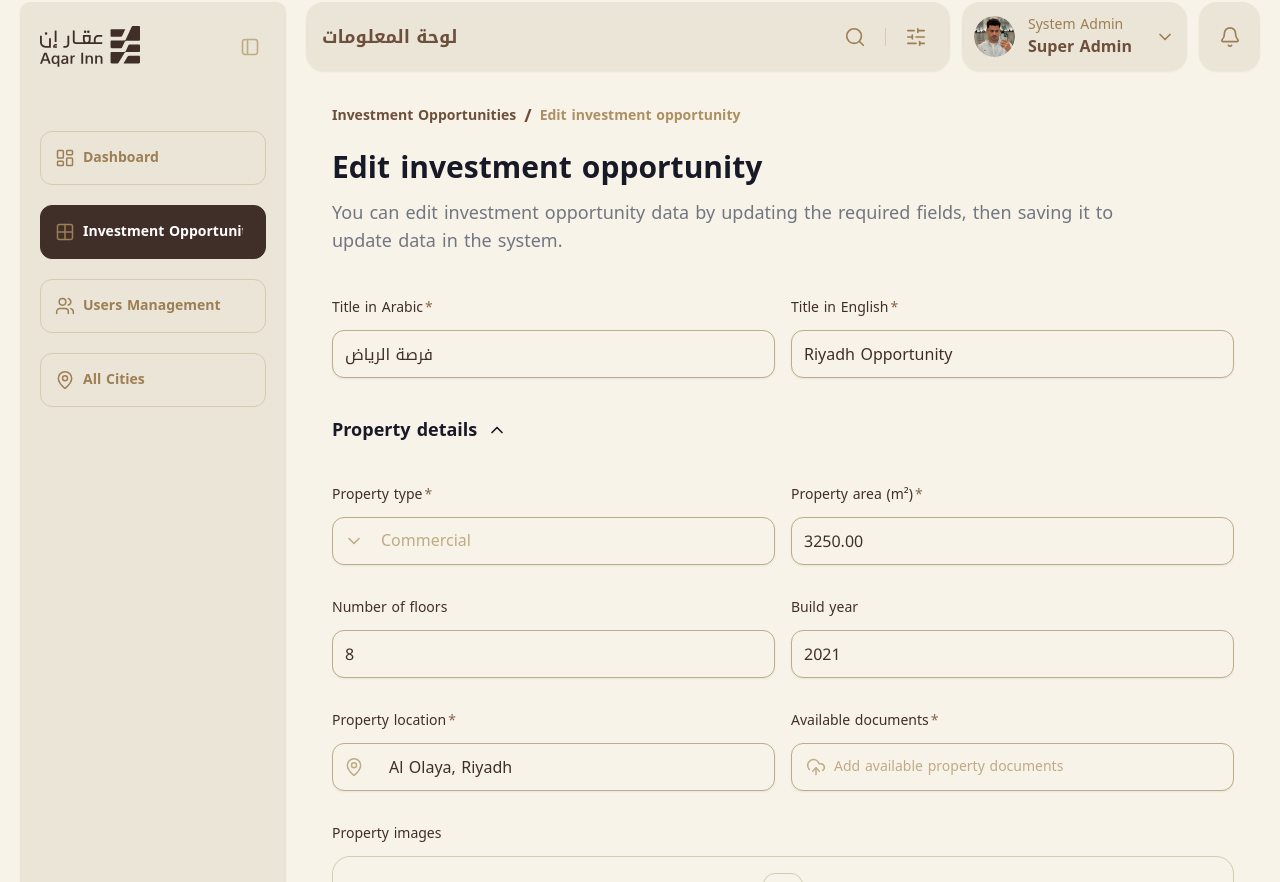
Test: InvestmentOpportunityEditPage upload interactions › renders localized english edit copy and discard dialog with ltr direction
Expected: the heading "Edit investment opportunity" is shown, [332,140,762,196]
Replace the text in the field with id "titleEn" with "Edited title in English": (1012, 354) [791,330,1234,378]
(page scrolled)
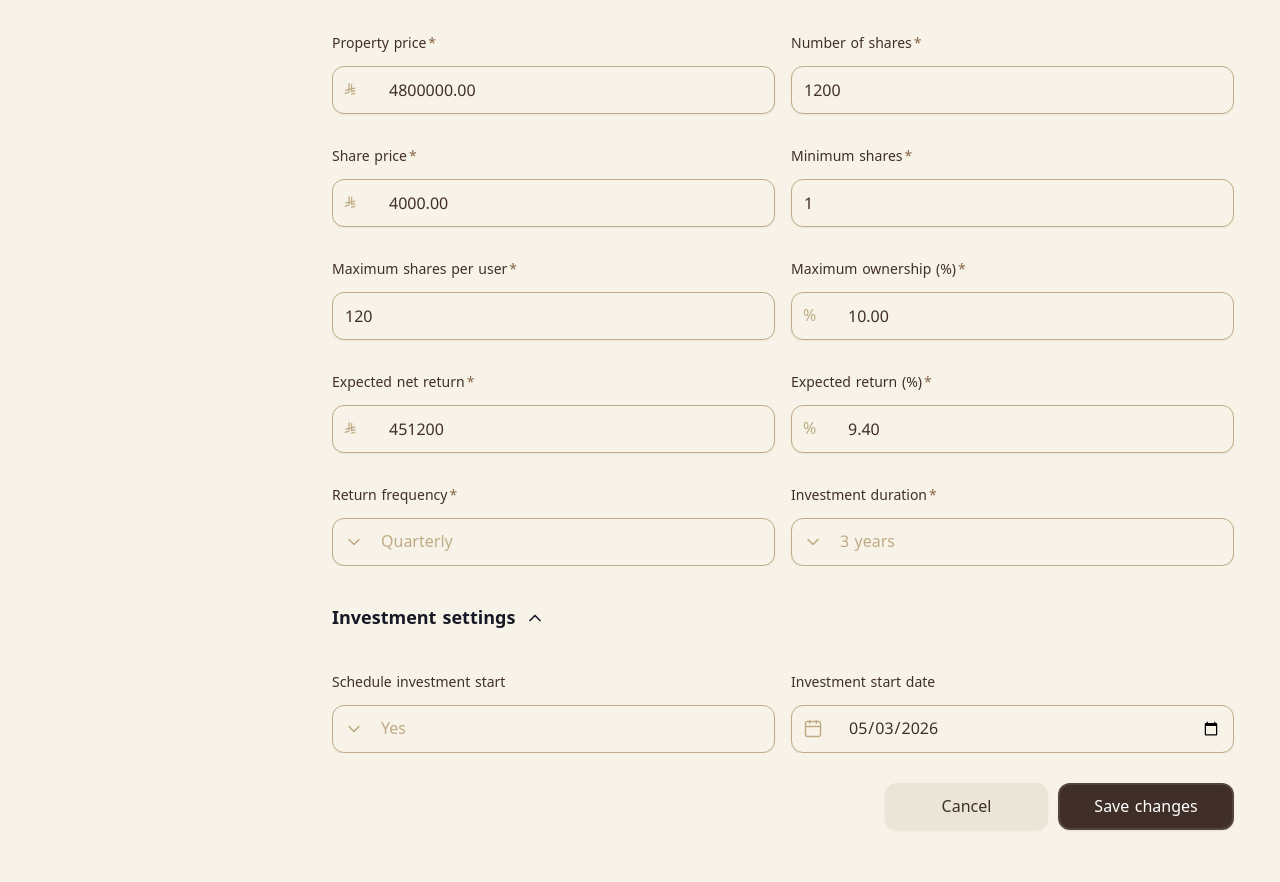
Click the button "Cancel": (966, 806) [885,783,1048,830]
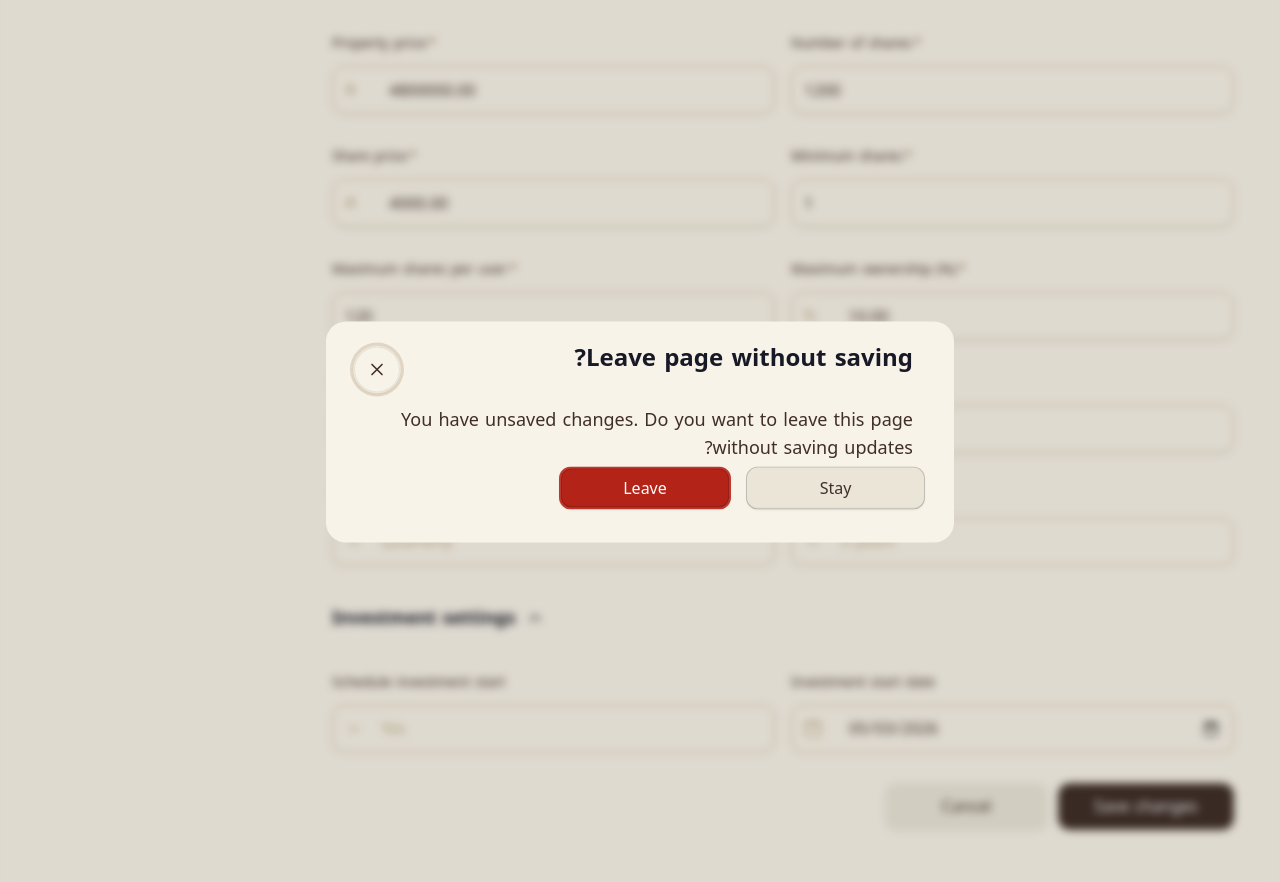
Expected: the text "Leave page without saving?" is shown, [574,334,913,380]
Expected: the text "You have unsaved changes. Do you want to leave this page without saving updates?" is shown, [396,406,913,462]
Expected: the button "Leave" is shown, [559,466,731,510]
